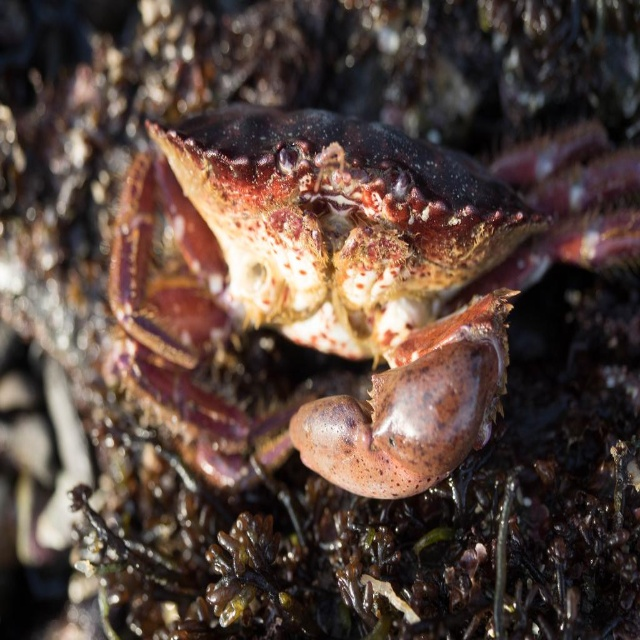Crab: (99, 104, 640, 499)
